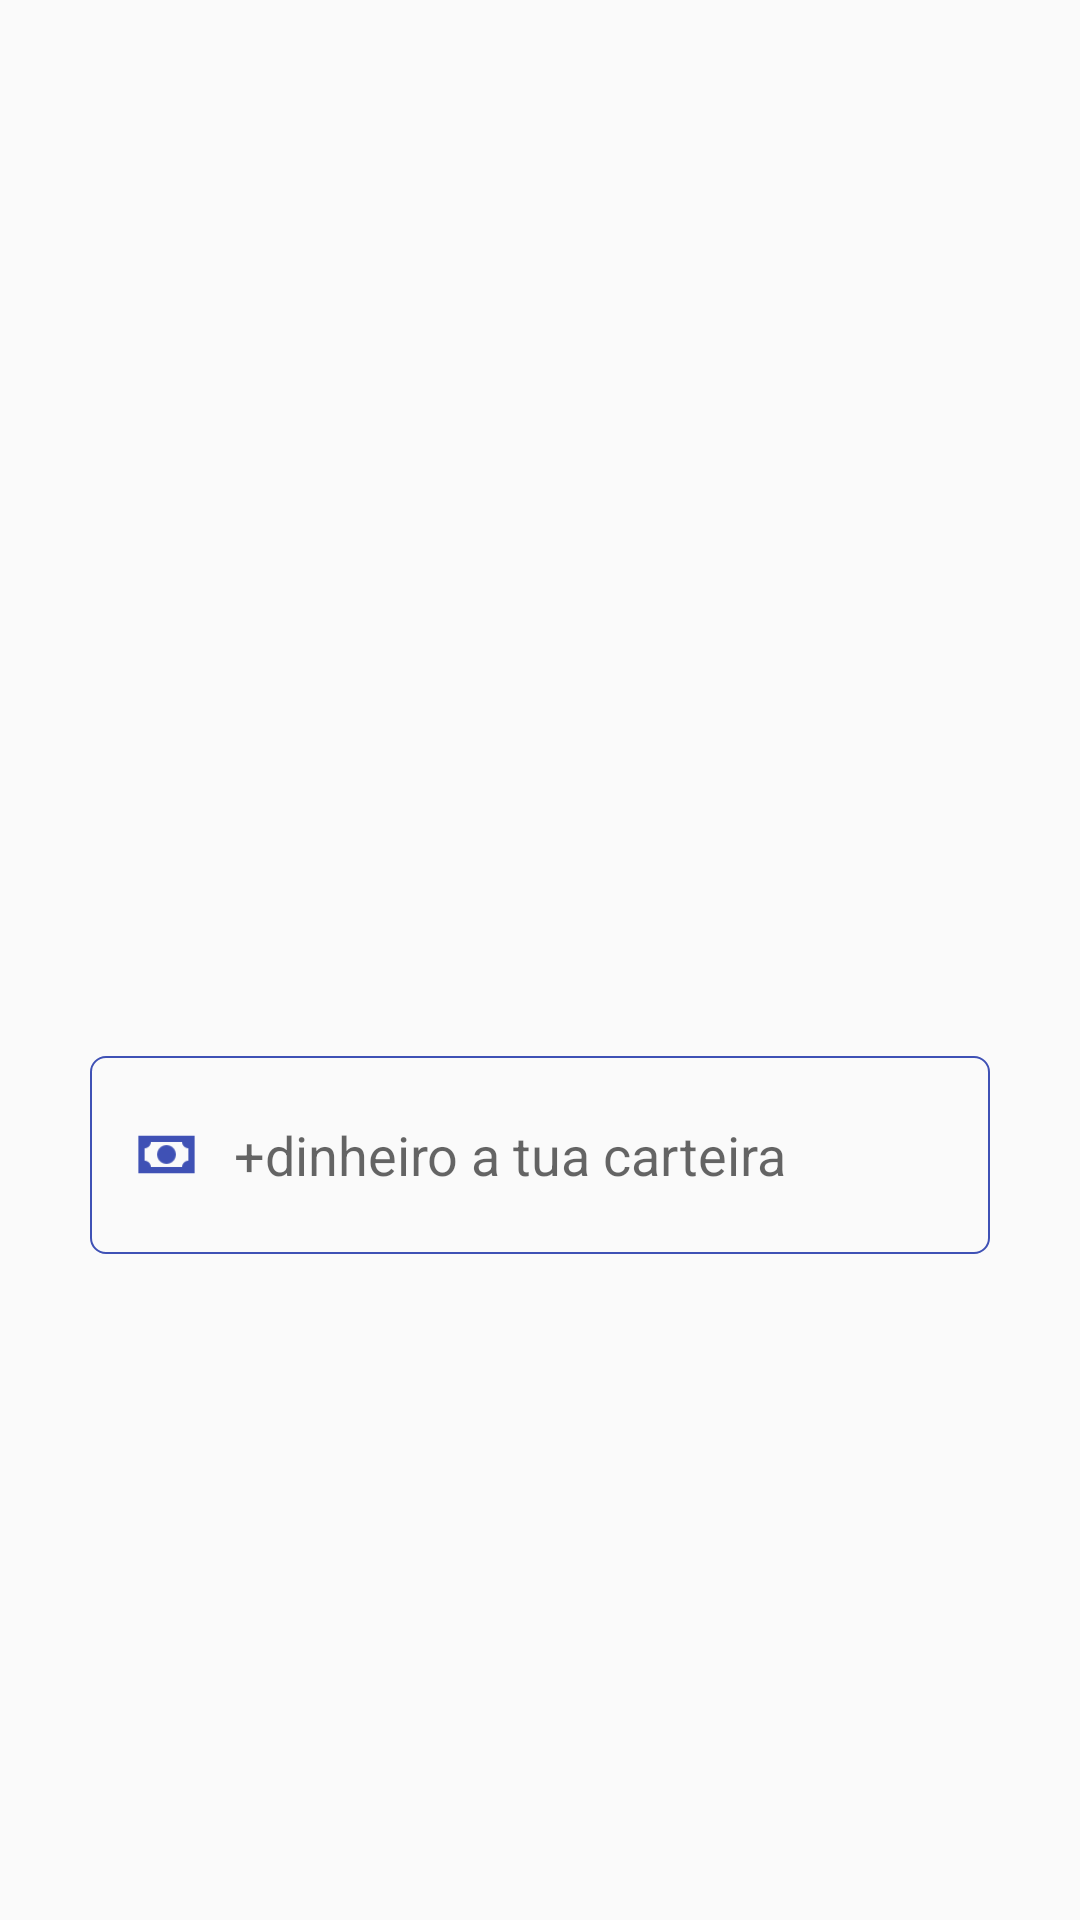

Where to tap for icons on this 1080×1920 app screen, as [x,y]:
cash: [166,1154]
